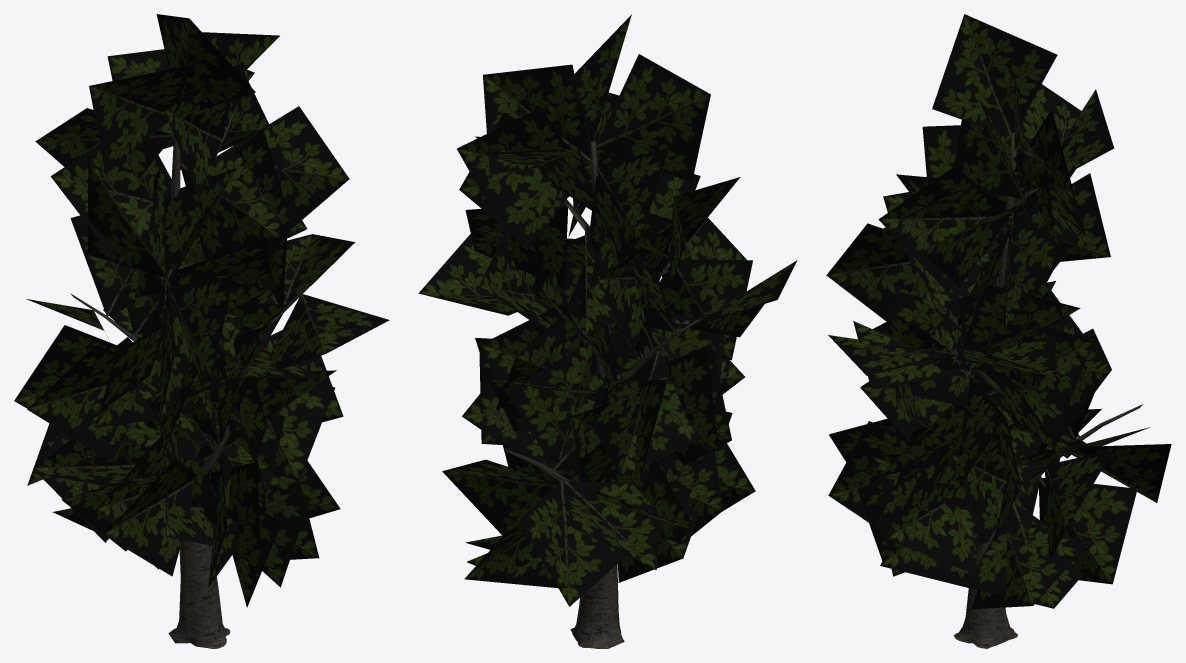
Rendered from tree_5.obj.
3 views of the same model, side by side, from view 1: azimuth 30°, elevation 25°; view 2: azimuth 150°, elevation 25°; view 3: azimuth 270°, elevation 25° (orthographic). The views are drawn at different scales.
Visible parts, largest first — view 1: tree_5_leaves, tree_5; view 2: tree_5_leaves, tree_5; view 3: tree_5_leaves, tree_5.
Boxes of the visible parts, x1,y1,x2,y2 form: tree_5_leaves: (14,14,389,607); tree_5: (70,109,314,648); tree_5_leaves: (418,14,797,606); tree_5: (504,141,706,648); tree_5_leaves: (826,14,1171,609); tree_5: (953,132,1142,648).
Size of the model in its own units: 3.74 by 6.91 by 3.54.
